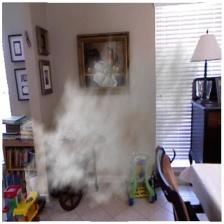fire: (19, 21, 201, 216)
